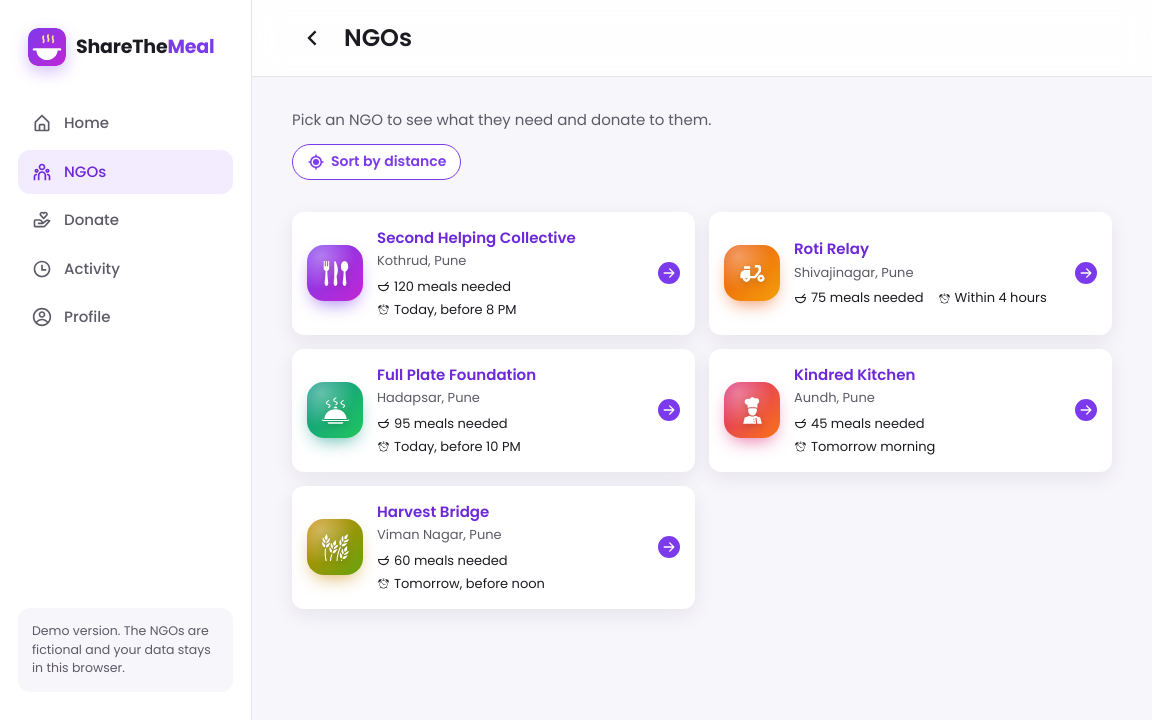
it: finding NGOs nearby › sorts NGOs by distance once the visitor shares their location
Click the button "Sort by distance" at x=377, y=162, box [292,144,461,180]
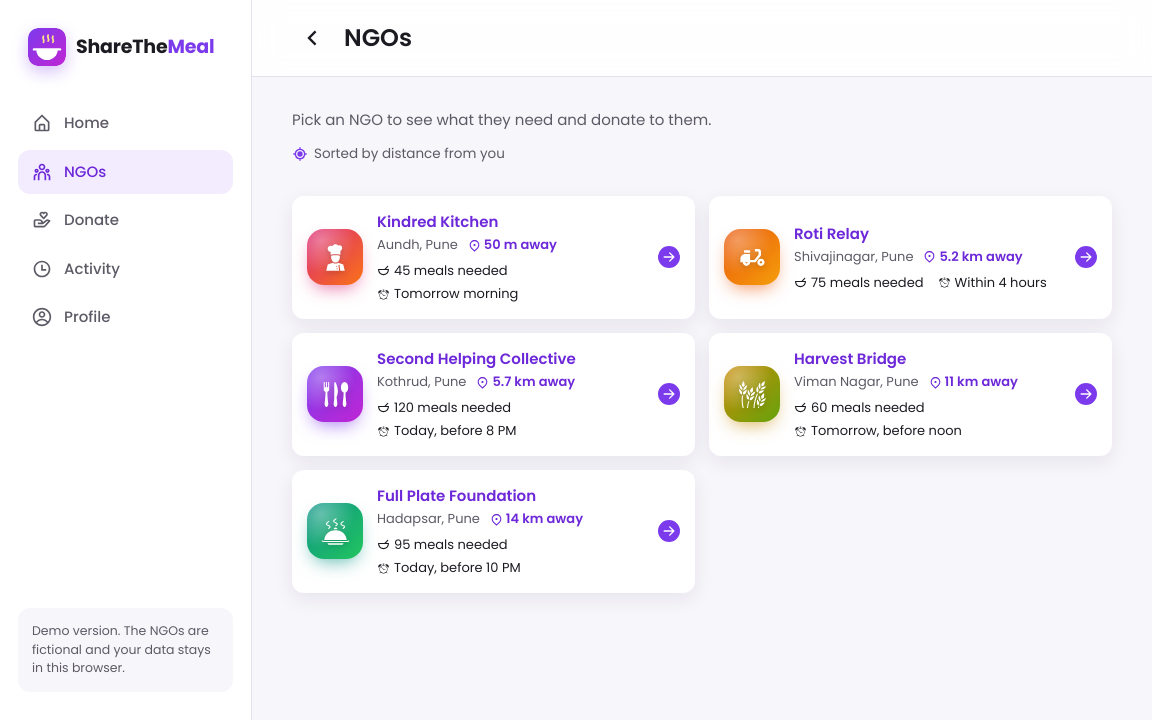
Check: the heading "Kindred Kitchen" is shown, box [377,211,498,232]
Check: the text "Sorted by distance from you" is shown, box [292,144,505,162]
Check: the text "50 m away" is shown, box [468,235,557,255]
